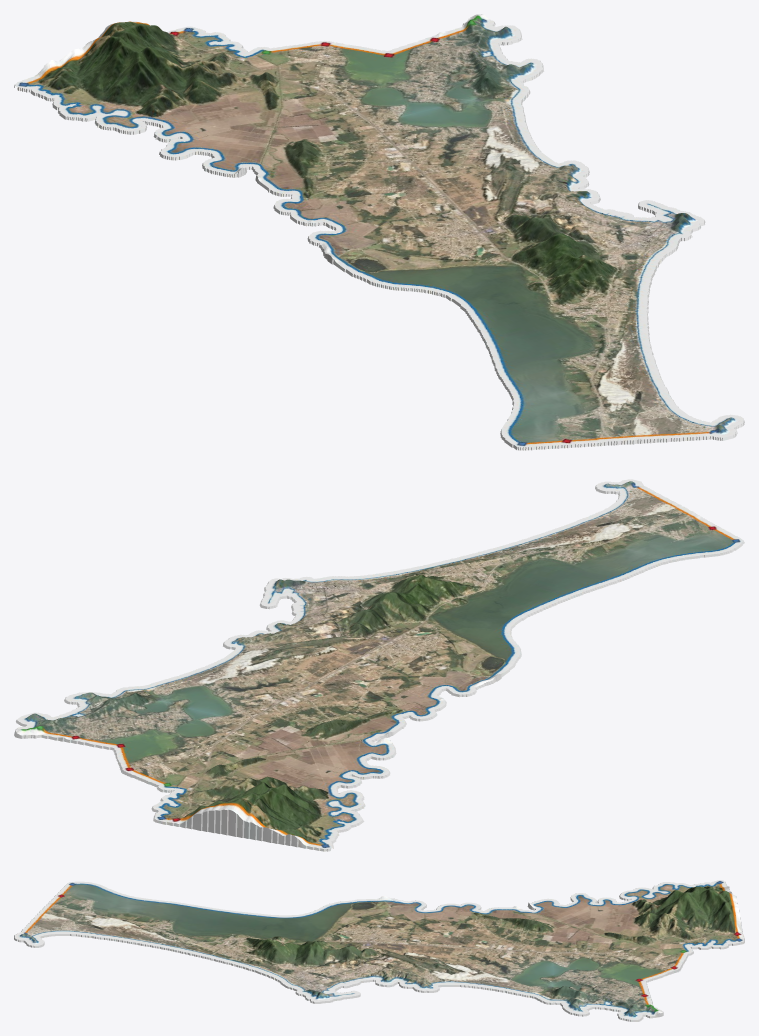
3 views of the same model, one above another, from view 1: azimuth 30°, elevation 25°; view 2: azimuth 150°, elevation 25°; view 3: azimuth 270°, elevation 25° (orthographic). The views are drawn at different scales.
Size of the model in its own units: 0.9995 by 0.0817 by 2.2.
Materials: 1 (1 with a texture image).
